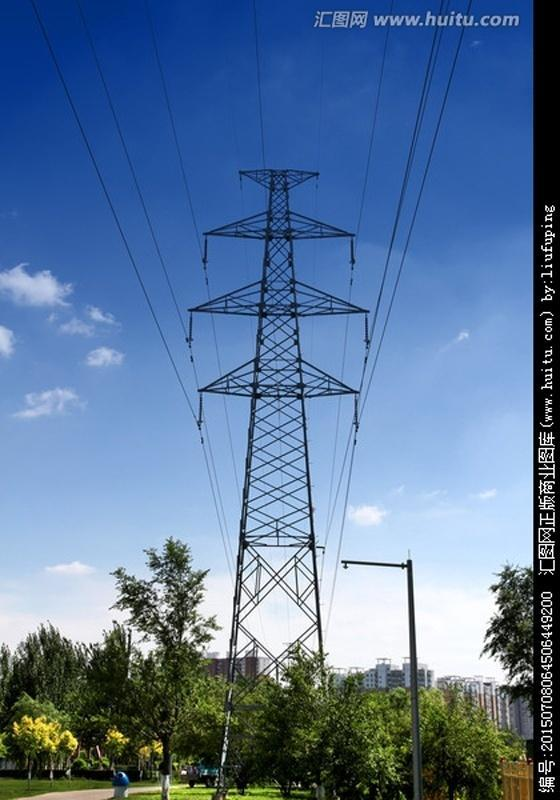power_tower: (186, 168, 370, 799)
